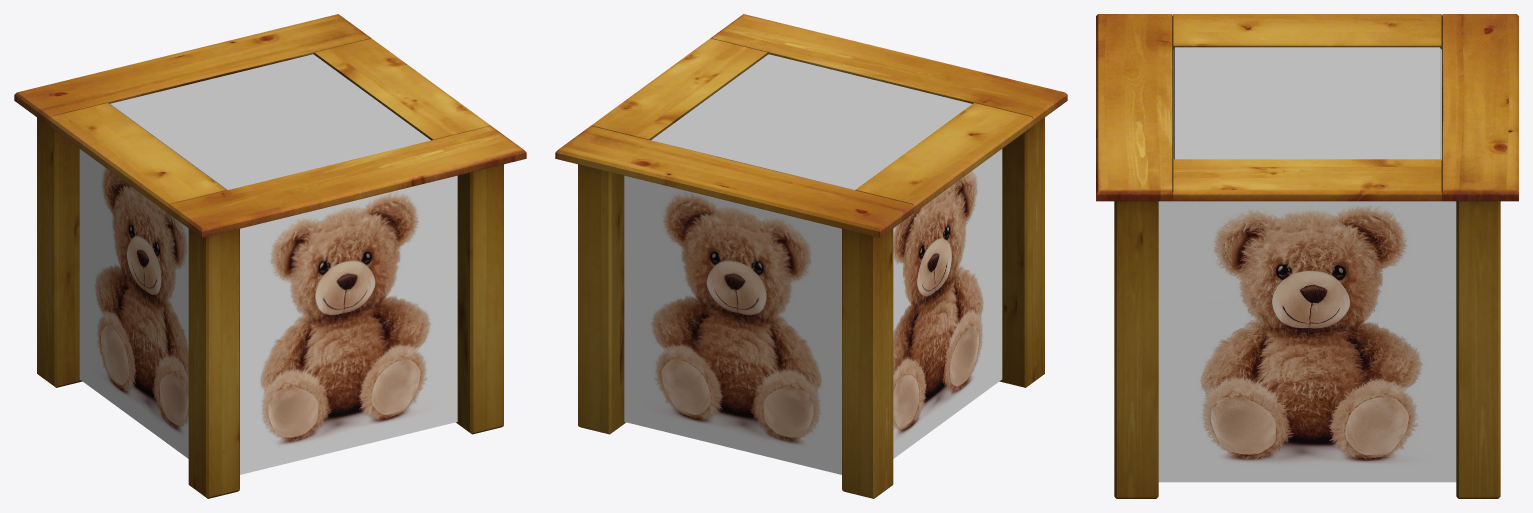
The model's file is table_teddy copy.dae.
The picture shows the model from 3 angles, left to right: view 1: azimuth 30°, elevation 25°; view 2: azimuth 150°, elevation 25°; view 3: azimuth 270°, elevation 25°; orthographic projection. The views are drawn at different scales.
Visible parts, largest first — view 1: Wood_Table, Cube; view 2: Wood_Table, Cube; view 3: Wood_Table, Cube.
Boxes of the visible parts, <box> form: Wood_Table: <box>14,14,526,498</box>; Cube: <box>79,149,457,474</box>; Wood_Table: <box>555,14,1067,498</box>; Cube: <box>624,149,1002,474</box>; Wood_Table: <box>1096,14,1518,498</box>; Cube: <box>1158,201,1456,482</box>.
Size of the model in its own units: 0.9901 by 0.9901 by 0.8162.
Materials: 3 (2 with a texture image).
